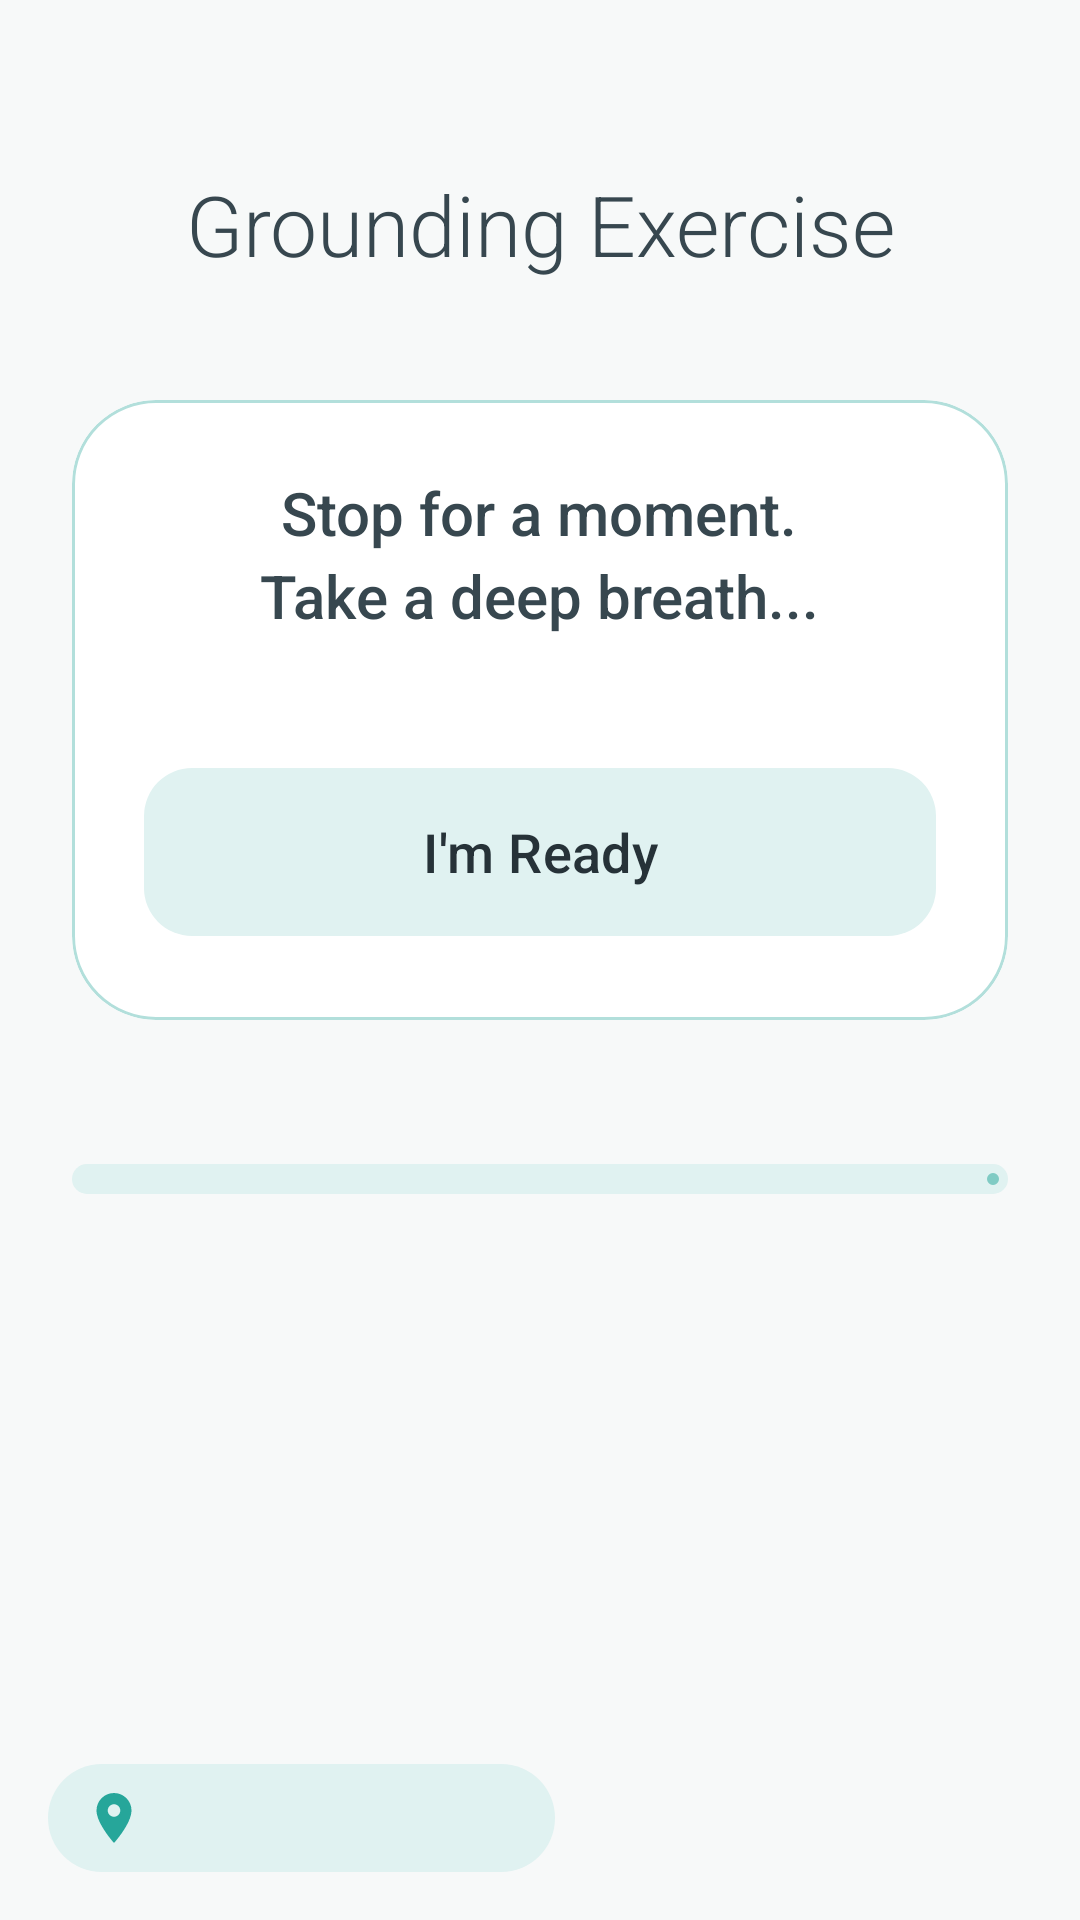

Where to tap for icons on this 1080 × 1920 app screen, as point (x, y):
location on: point (114, 1818)
